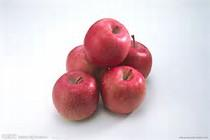apple: (39, 18, 130, 106), (54, 74, 97, 120), (106, 67, 147, 115)
